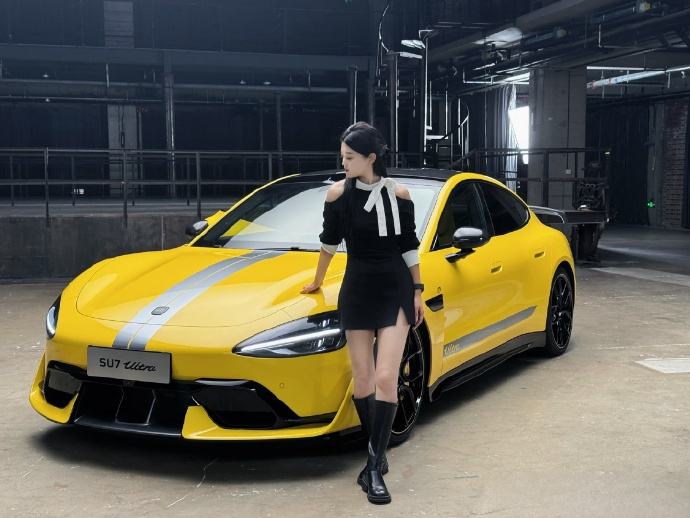su7: (37, 150, 584, 443)
